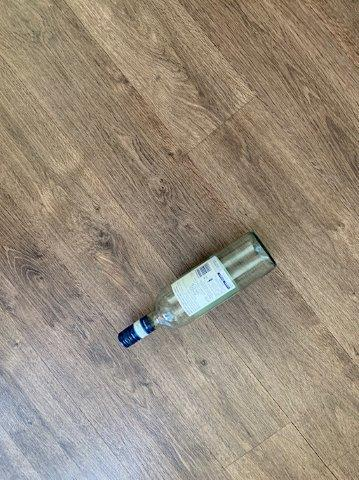botolkaca: (120, 233, 277, 347)
